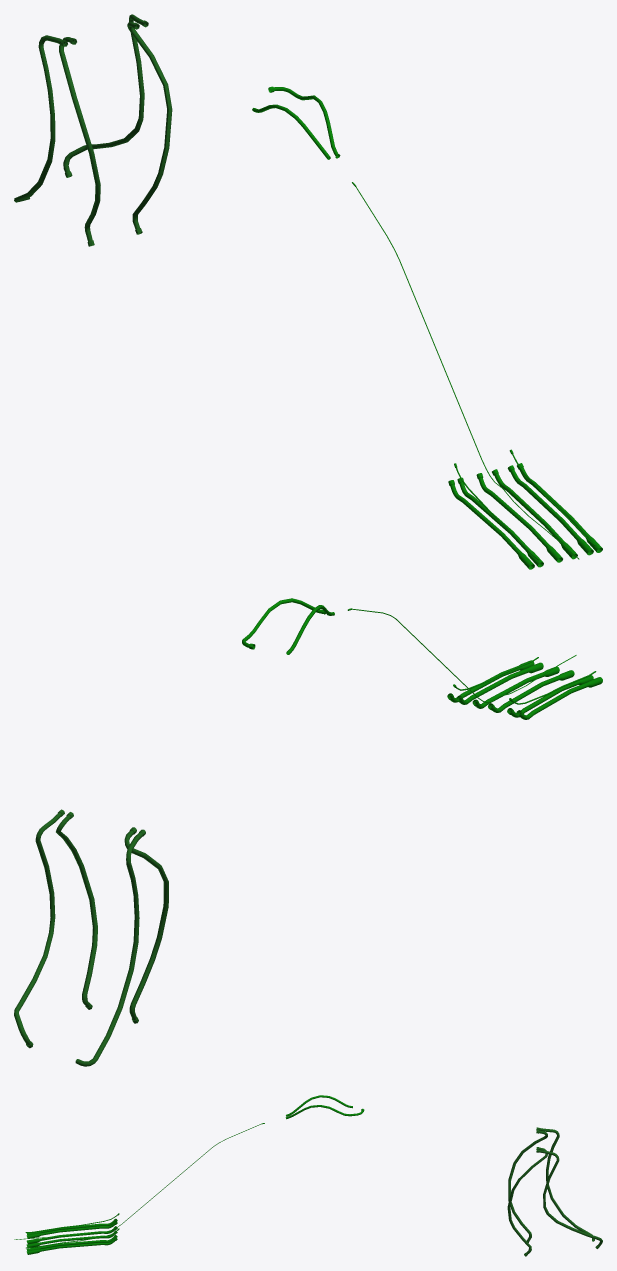
Rendered from ExcavatorMachine_Pipes_01a_snaps005.fbx.
3 views of the same model, one above another, from view 1: azimuth 30°, elevation 25°; view 2: azimuth 150°, elevation 25°; view 3: azimuth 270°, elevation 25° (orthographic). The views are drawn at different scales.
Parts seen in each view (by area): view 1: ExcavatorMachine_Pipes_01a_snaps005_LOD0; view 2: ExcavatorMachine_Pipes_01a_snaps005_LOD0; view 3: ExcavatorMachine_Pipes_01a_snaps005_LOD0.
Part boxes in pixels (x1,y1,x2,y2): ExcavatorMachine_Pipes_01a_snaps005_LOD0: (14,14,602,569); ExcavatorMachine_Pipes_01a_snaps005_LOD0: (14,598,602,1066); ExcavatorMachine_Pipes_01a_snaps005_LOD0: (14,1095,602,1256).
Size of what is drawn, in the model's own units: 89.63 by 247 by 869.
